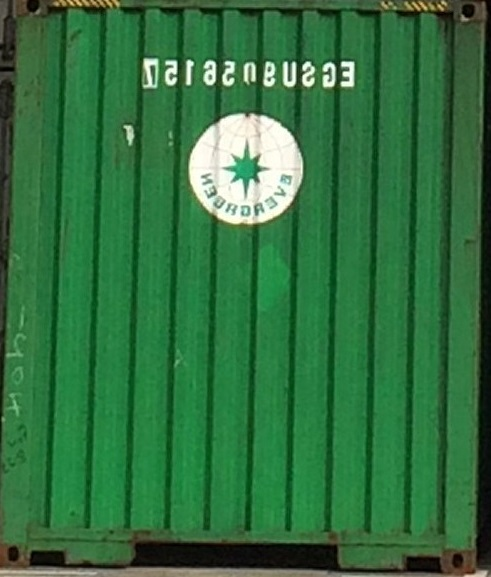container_no_door: (6, 1, 474, 574)
